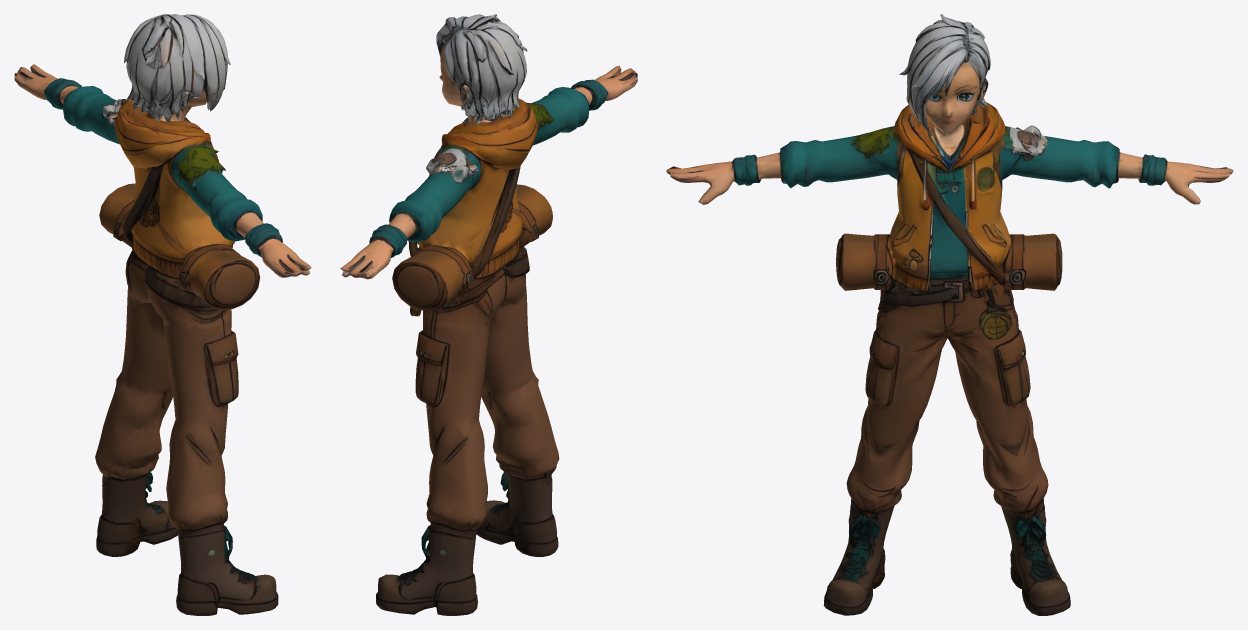
The model's file is n2_cartographer.e97a5498.glb.
3 renders of one model, left to right at view 1: azimuth 30°, elevation 25°; view 2: azimuth 150°, elevation 25°; view 3: azimuth 270°, elevation 25°, orthographic.
Visible parts, largest first — view 1: tripo_node_d21763cc-fbea-4452-89bc-8249e9e60c79; view 2: tripo_node_d21763cc-fbea-4452-89bc-8249e9e60c79; view 3: tripo_node_d21763cc-fbea-4452-89bc-8249e9e60c79.
Boxes of the visible parts, x1,y1,x2,y2 form: tripo_node_d21763cc-fbea-4452-89bc-8249e9e60c79: [14, 14, 311, 615]; tripo_node_d21763cc-fbea-4452-89bc-8249e9e60c79: [340, 14, 637, 615]; tripo_node_d21763cc-fbea-4452-89bc-8249e9e60c79: [666, 14, 1233, 615].
Size of the model in its own units: 0.1915 by 0.9991 by 0.9002.
Materials: 1 (1 with a texture image).
